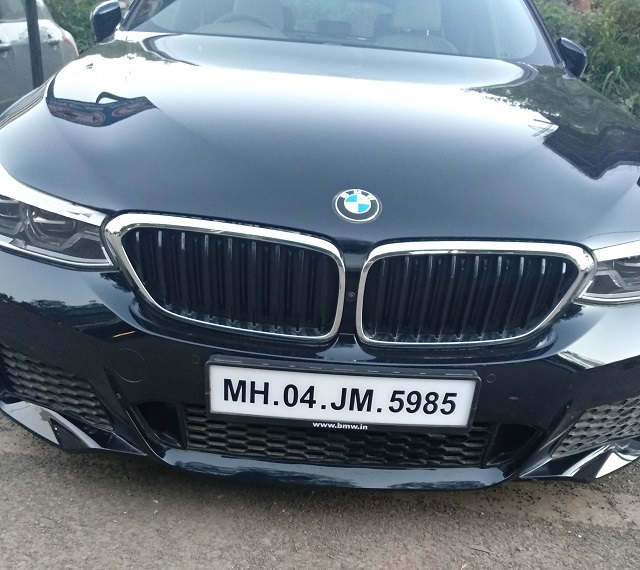licenseplate: (205, 359, 476, 430)
